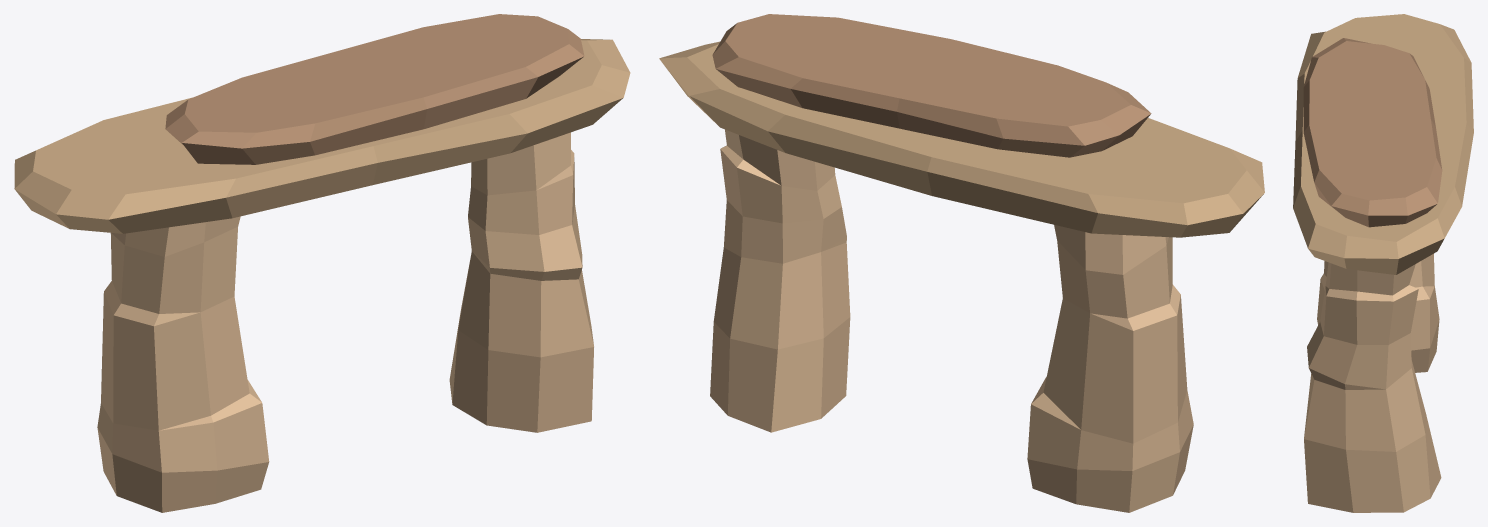
File: Rock_Arch_01.fbx
The picture shows the model from 3 angles, left to right: view 1: azimuth 30°, elevation 25°; view 2: azimuth 150°, elevation 25°; view 3: azimuth 270°, elevation 25°; orthographic projection. The views are drawn at different scales.
Visible parts, largest first — view 1: Rock_Arch_01; view 2: Rock_Arch_01; view 3: Rock_Arch_01.
Part boxes in pixels (<box>): Rock_Arch_01: <box>14,14,630,512</box>; Rock_Arch_01: <box>659,14,1264,512</box>; Rock_Arch_01: <box>1293,14,1473,512</box>.
Size of the model in its own units: 701 by 412 by 218.
